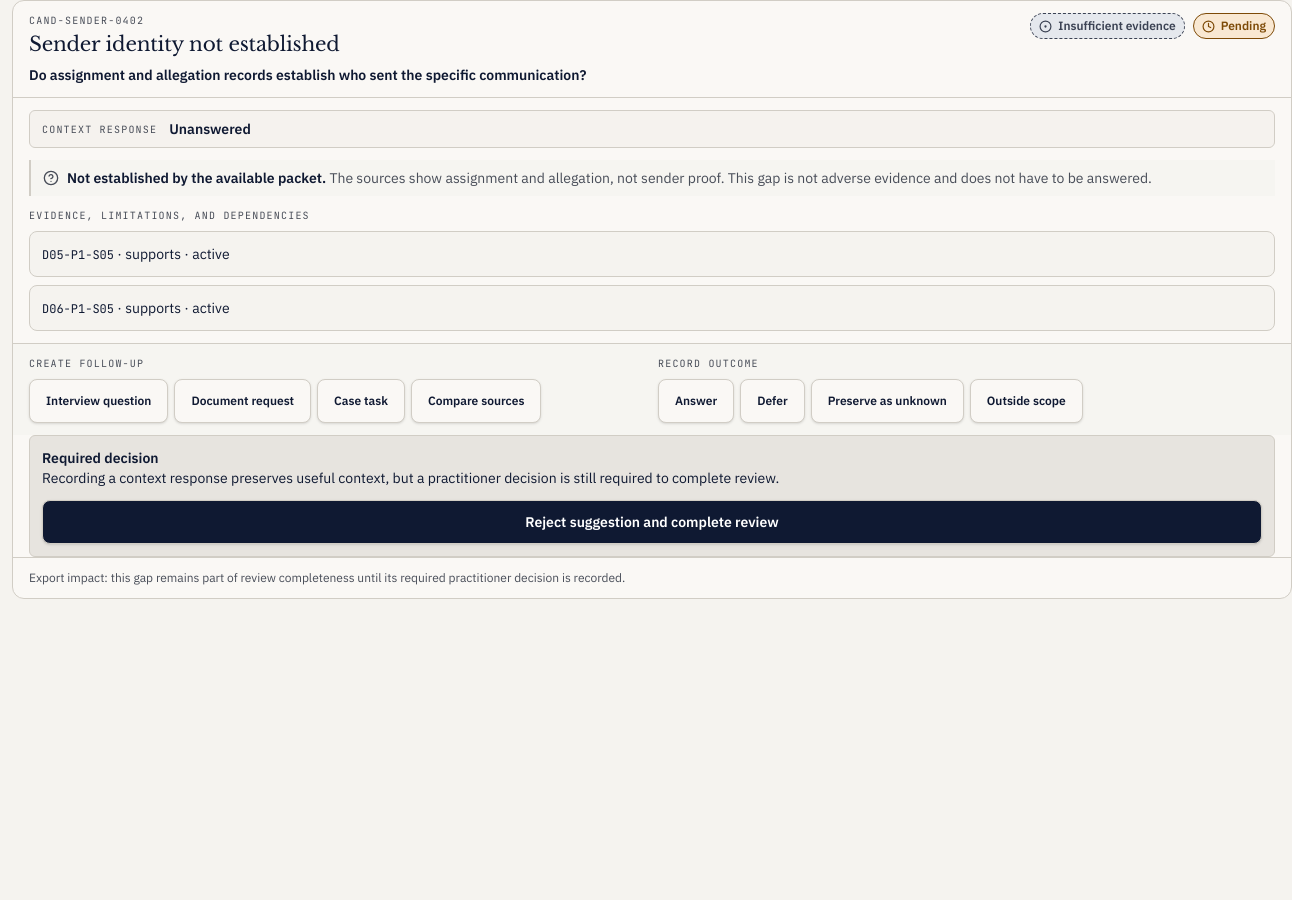
TASK-021 context gaps › uses a case-specific task owner without linking to an unavailable dynamic destination
Click the button with aria-label "Create case task" at (361, 401), box x1=317 y1=379 x2=405 y2=423
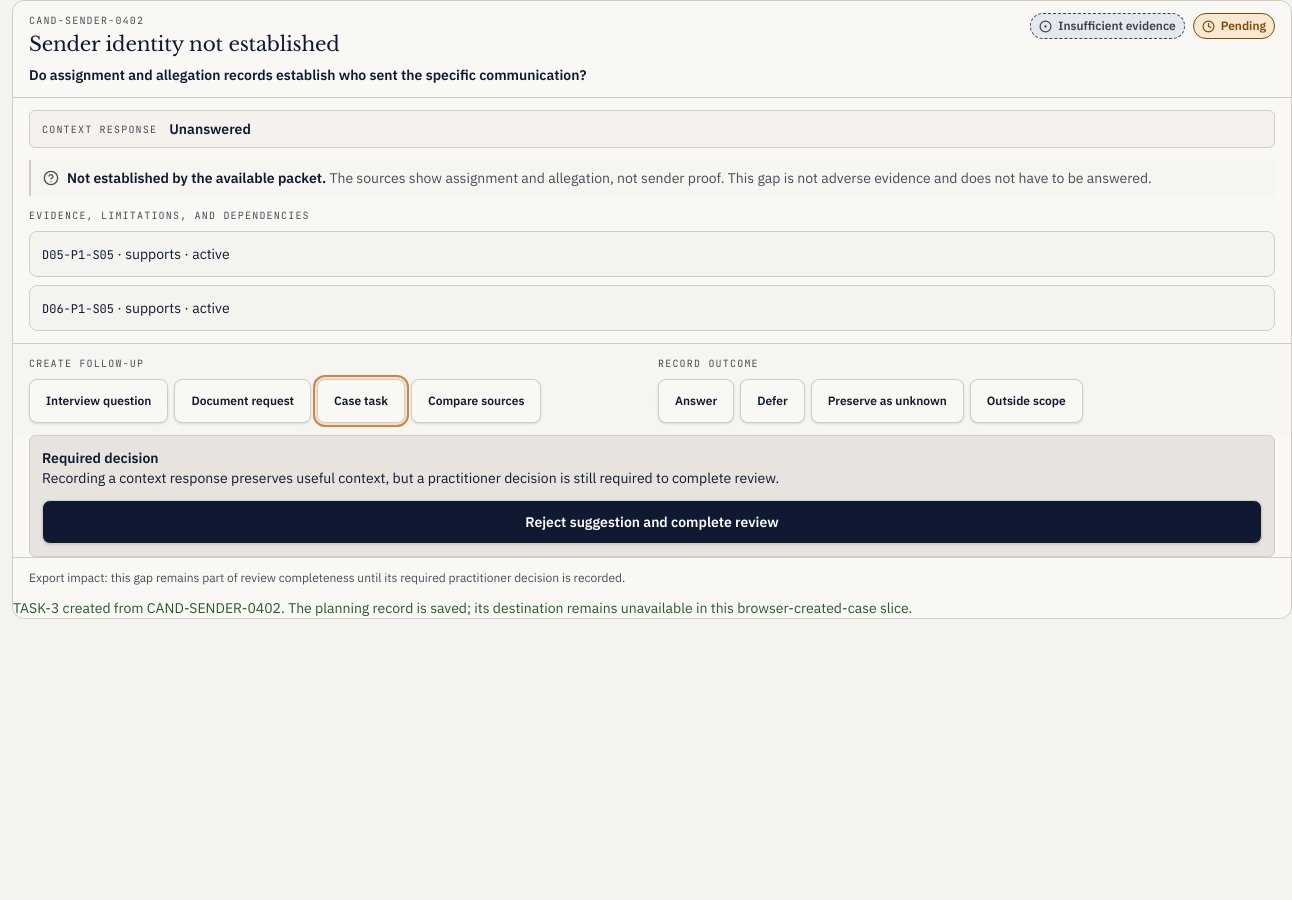
expect the text "destination remains unavailable" is shown: met, box x1=288 y1=599 x2=912 y2=617
